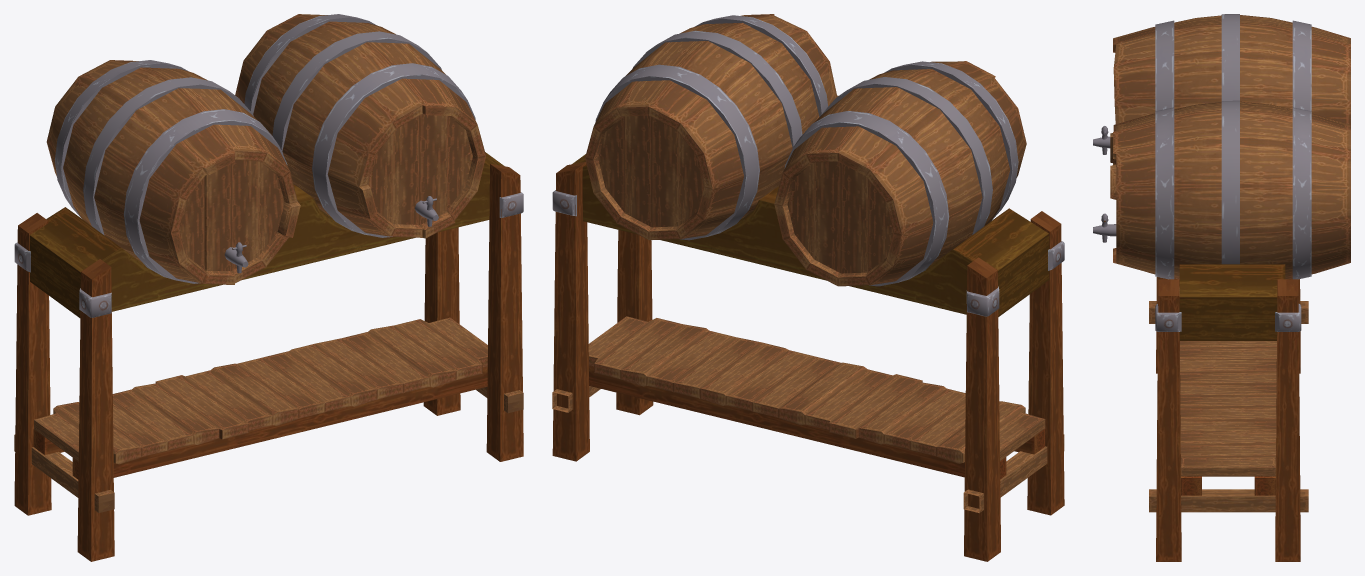
File: barrel_holder.gltf
3 views of the same model, side by side, from view 1: azimuth 30°, elevation 25°; view 2: azimuth 150°, elevation 25°; view 3: azimuth 270°, elevation 25° (orthographic). The views are drawn at different scales.
Visible parts, largest first — view 1: Barrel_Holder; view 2: Barrel_Holder; view 3: Barrel_Holder.
Part boxes in pixels (x1,y1,x2,y2): Barrel_Holder: (14, 14, 523, 561); Barrel_Holder: (552, 14, 1064, 561); Barrel_Holder: (1093, 14, 1350, 561).
Size of the model in its own units: 1.36 by 1.26 by 0.741.
2 materials, 2 textured.
